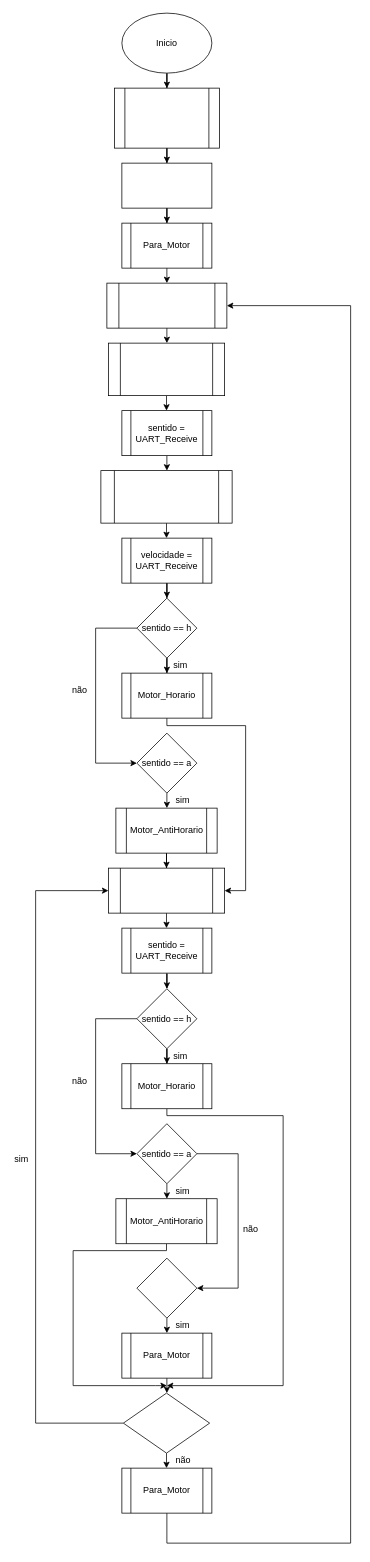
Some shapes in this 370 by 1562 pixel diagram are drawn without their labels. Here are the shapes that lost their labels. From the top down, the centre of each, then its label:
(166,117): PLL_Init SysTick_Init GPIO_Init UART_Enable GPIO_InterruptInit
(166,185): interrupção = 0
(166,305): UART_Send("Motor parado")
(166,369): UART_Send("Informe o sentido de rotacao Horario: h Anti-horario: a")
(166,496): UART_Send("Selecione a velocidade...")
(166,890): UART_Send("Motor rodando...")
(166,1287): sentido == 0
(166,1422): interrupção == 0
